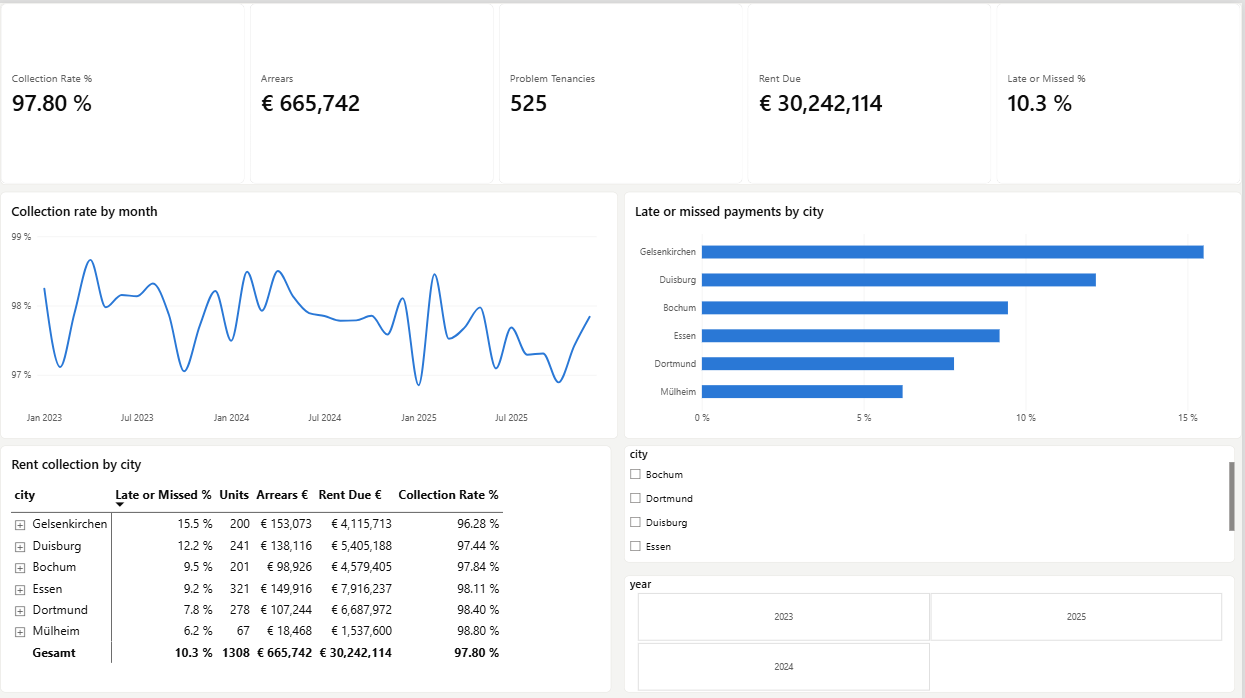

Layout of this report page (visuals, bound fields, positions):
{"tool":"powerbi","page":{"name":"page4_rent.png","canvas":[1920,1080],"ordinal":3},"visuals":[{"type":"cardVisual","fields":{"Data":["_Measures.Collection Rate %","_Measures.Arrears (Card)","_Measures.Problem Tenancies","_Measures.Rent Due (Card)","_Measures.Late or Missed %"]},"box":[10.3,0,1910.1,279.9],"z":0},{"type":"lineChart","title":"Collection rate by month","fields":{"Category":["dim_date.year_month"],"Y":["_Measures.Collection Rate %"]},"box":[10,290,950,380],"z":1000},{"type":"barChart","title":"Late or missed payments by city","fields":{"Category":["dim_property.city"],"Y":["_Measures.Late or Missed %"]},"box":[970,290,950,380],"z":2000},{"type":"pivotTable","title":"Rent collection by city","fields":{"Rows":["dim_property.city","dim_property.district"],"Values":["_Measures.Late or Missed %","_Measures.Units","_Measures.Arrears €","_Measures.Rent Due €","_Measures.Collection Rate %"]},"box":[10,680,940,380],"z":3000},{"type":"slicer","fields":{"Values":["dim_property.city"]},"box":[970,680,940,180],"z":4000},{"type":"slicer","fields":{"Values":["dim_date.year"]},"box":[970,880,940,180],"z":5000}]}

Visuals, with their boxes in screenshot pixels (x1, y1, x2, y2), scaled from the page's 1920x1080 canvas onto the 1245x698 screenshot:
cardVisual - _Measures.Collection Rate % x _Measures.Arrears (Card): <region>7, 0, 1244, 181</region>
"Collection rate by month" lineChart: <region>6, 187, 622, 433</region>
"Late or missed payments by city" barChart: <region>629, 187, 1244, 433</region>
"Rent collection by city" pivotTable: <region>6, 439, 616, 685</region>
slicer - dim_property.city: <region>629, 439, 1239, 556</region>
slicer - dim_date.year: <region>629, 569, 1239, 685</region>
